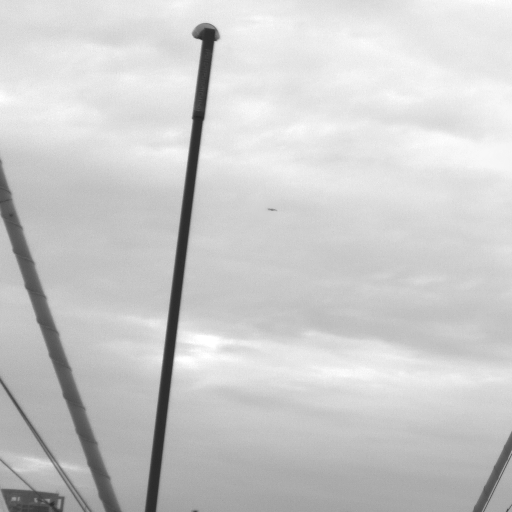uav: (265, 207, 277, 212)
